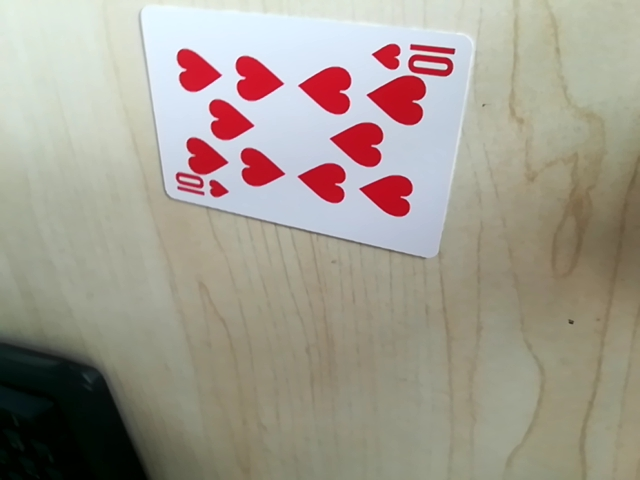hx 10: (374, 36, 458, 76), (168, 176, 231, 205)
